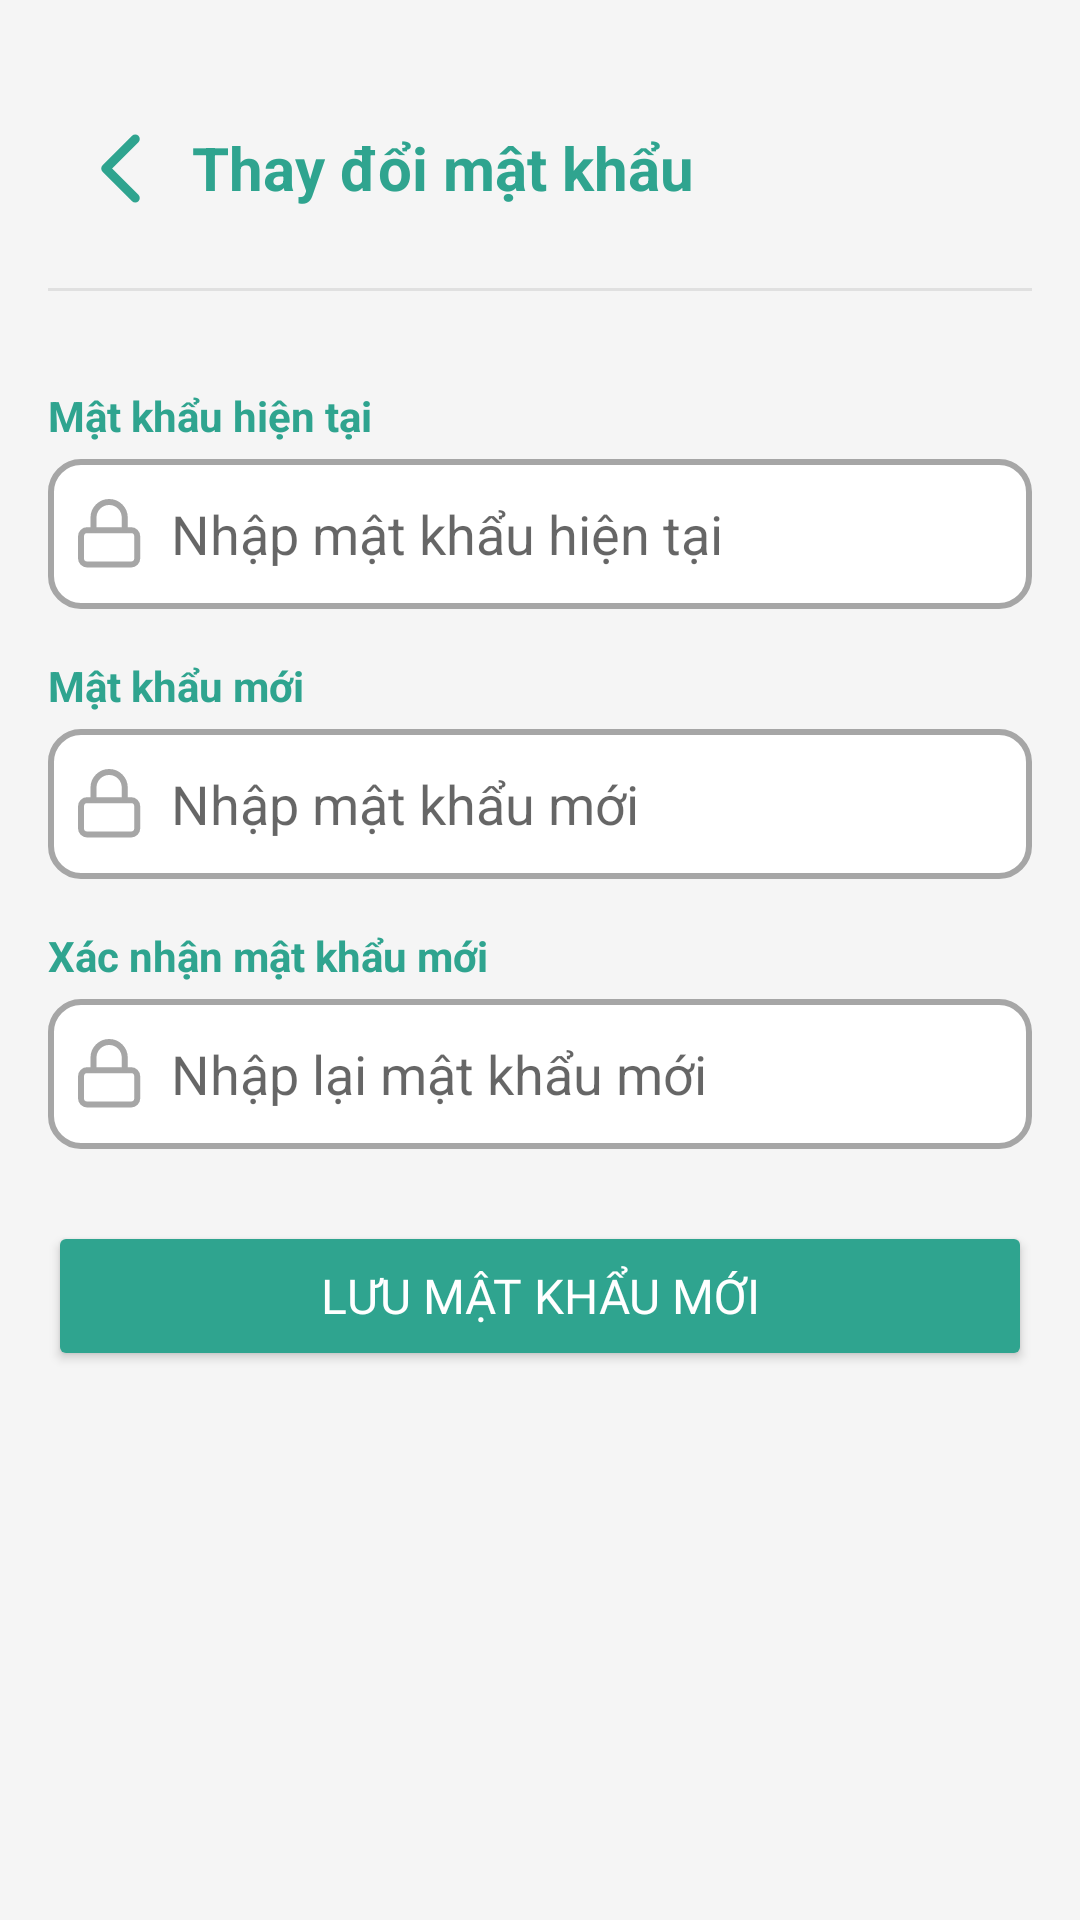

Icon click points for this 1080 × 1920 phone screenshot, format point (x, y):
Quay lại: point (120, 168)
